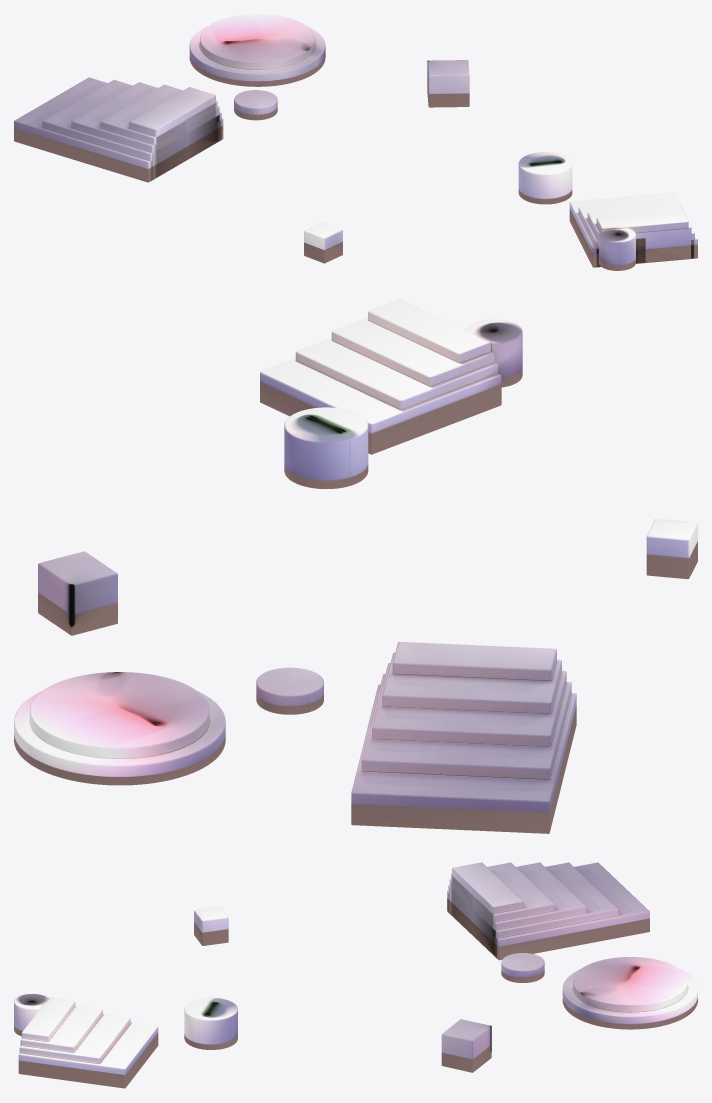
Rendered from plinths-day.glb.
3 renders of one model, top to bottom at view 1: azimuth 30°, elevation 25°; view 2: azimuth 150°, elevation 25°; view 3: azimuth 270°, elevation 25°, orthographic. The views are drawn at different scales.
Visible parts, largest first — view 1: plinths_day; view 2: plinths_day; view 3: plinths_day.
Part boxes in pixels (x1,y1,x2,y2): plinths_day: (14, 14, 697, 270); plinths_day: (14, 299, 697, 833); plinths_day: (14, 862, 697, 1088).
Size of the model in its own units: 19.06 by 2.1 by 26.77.
1 material, 1 textured.
